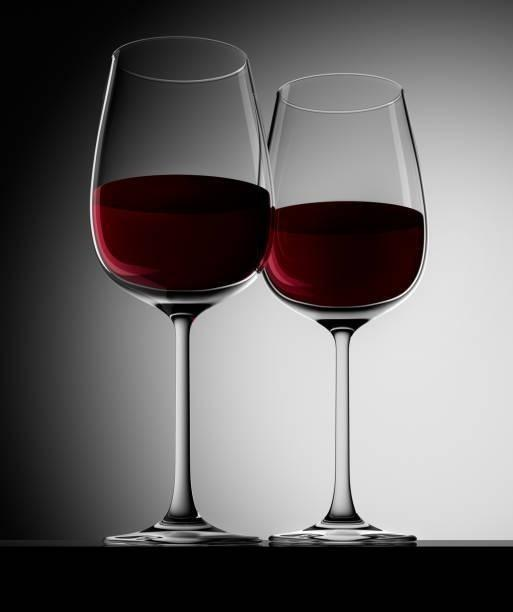glass-wine: (88, 35, 274, 549), (259, 71, 430, 550)
